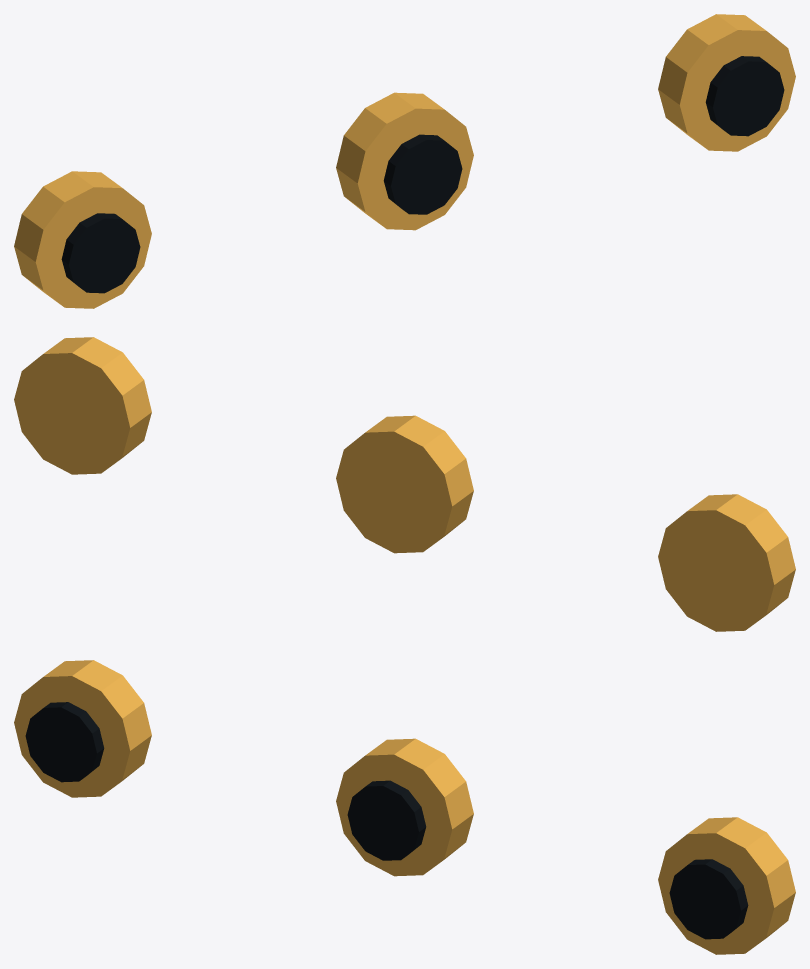
The model's file is 00_L92_AsteroidSamplingMissionDeck.fbx.
The picture shows the model from 3 angles, top to bottom: view 1: azimuth 30°, elevation 25°; view 2: azimuth 150°, elevation 25°; view 3: azimuth 330°, elevation 25°; orthographic projection.
Parts seen in each view (by area): view 1: L92_AsteroidSamplingMissionDeck_Part_0009, L92_AsteroidSamplingMissionDeck_Part_0011, L92_AsteroidSamplingMissionDeck_Part_0007, L92_AsteroidSamplingMissionDeck_Part_0012, L92_AsteroidSamplingMissionDeck_Part_0008, L92_AsteroidSamplingMissionDeck_Part_0010; view 2: L92_AsteroidSamplingMissionDeck_Part_0009, L92_AsteroidSamplingMissionDeck_Part_0007, L92_AsteroidSamplingMissionDeck_Part_0011; view 3: L92_AsteroidSamplingMissionDeck_Part_0009, L92_AsteroidSamplingMissionDeck_Part_0007, L92_AsteroidSamplingMissionDeck_Part_0011, L92_AsteroidSamplingMissionDeck_Part_0008, L92_AsteroidSamplingMissionDeck_Part_0012, L92_AsteroidSamplingMissionDeck_Part_0010.
Part boxes in pixels (x1=…): L92_AsteroidSamplingMissionDeck_Part_0009: x1=336, y1=92, x2=473, y2=230; L92_AsteroidSamplingMissionDeck_Part_0011: x1=658, y1=14, x2=795, y2=151; L92_AsteroidSamplingMissionDeck_Part_0007: x1=14, y1=171, x2=151, y2=308; L92_AsteroidSamplingMissionDeck_Part_0012: x1=705, y1=56, x2=784, y2=136; L92_AsteroidSamplingMissionDeck_Part_0008: x1=61, y1=213, x2=140, y2=293; L92_AsteroidSamplingMissionDeck_Part_0010: x1=383, y1=134, x2=462, y2=214; L92_AsteroidSamplingMissionDeck_Part_0009: x1=336, y1=415, x2=473, y2=553; L92_AsteroidSamplingMissionDeck_Part_0007: x1=658, y1=494, x2=795, y2=631; L92_AsteroidSamplingMissionDeck_Part_0011: x1=14, y1=337, x2=151, y2=474; L92_AsteroidSamplingMissionDeck_Part_0009: x1=336, y1=738, x2=473, y2=876; L92_AsteroidSamplingMissionDeck_Part_0007: x1=14, y1=660, x2=151, y2=797; L92_AsteroidSamplingMissionDeck_Part_0011: x1=658, y1=817, x2=795, y2=954; L92_AsteroidSamplingMissionDeck_Part_0008: x1=25, y1=702, x2=104, y2=782; L92_AsteroidSamplingMissionDeck_Part_0012: x1=669, y1=859, x2=748, y2=939; L92_AsteroidSamplingMissionDeck_Part_0010: x1=347, y1=780, x2=426, y2=860.
Size of what is drawn, in the model's own units: 85 by 13 by 6.3.
